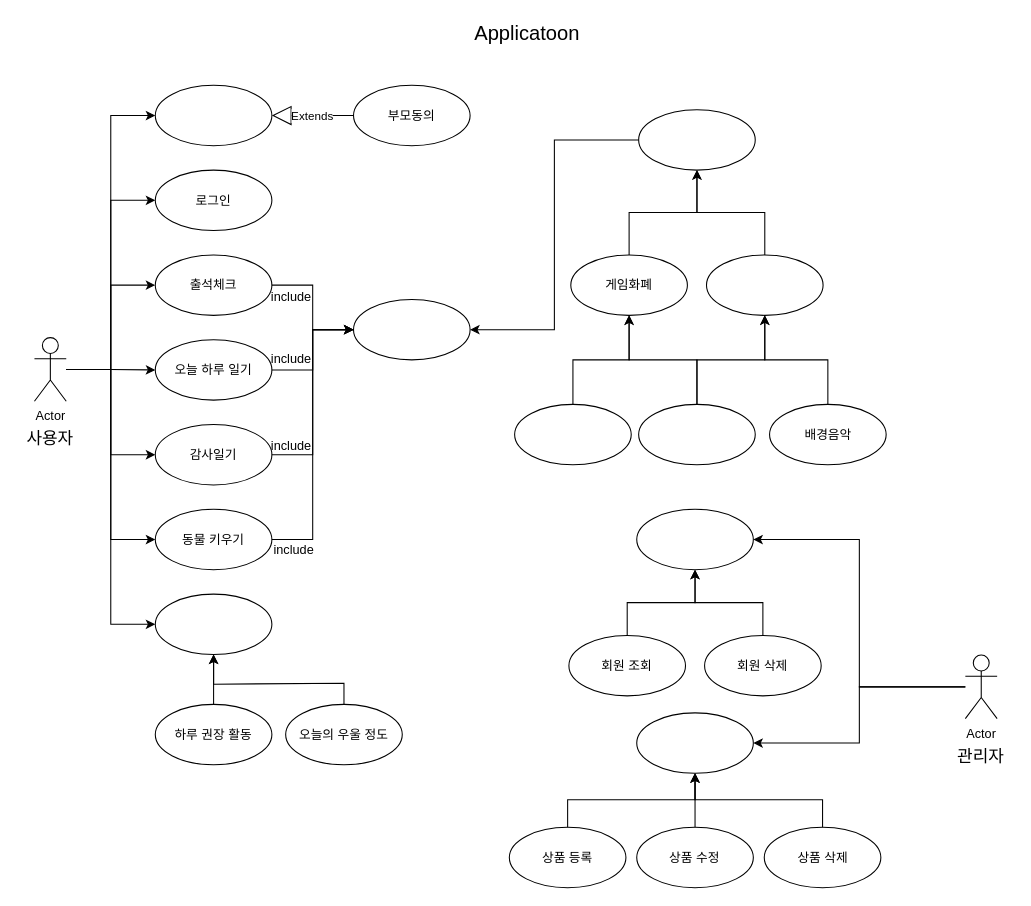
Image size: 1031x906. Some labels were removed from this diagram. The centre of each missing label's shape, as x and y in pixels:
To-do check list: point 213,624
동물 옷: point 572,434
리워드: point 411,329
먹이: point 696,434
상점 관리: point 694,742
유저상점: point 696,139
현금결제: point 764,284
회원가입: point 213,115
회원관리: point 694,539
